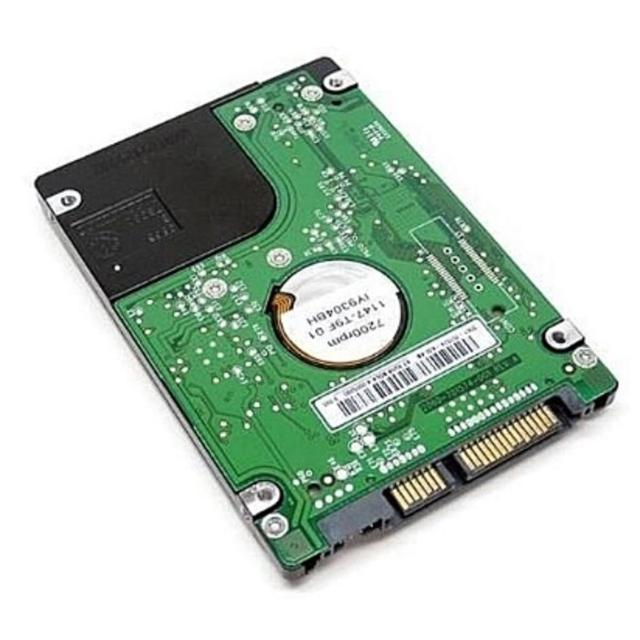HDD: (33, 58, 619, 583)
